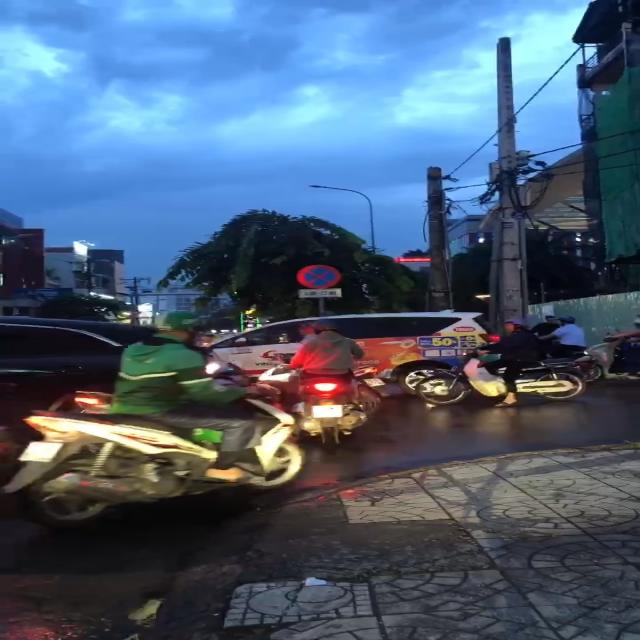Bien bao cam dung xe va do xe: (292, 264, 345, 290)
